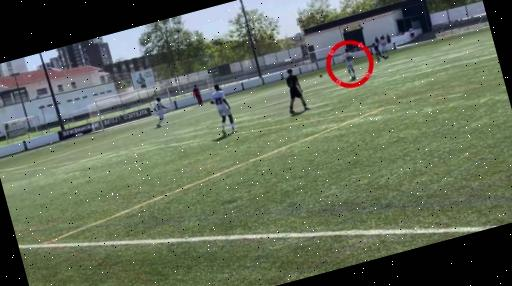highlight_overlay: (319, 33, 382, 95)
